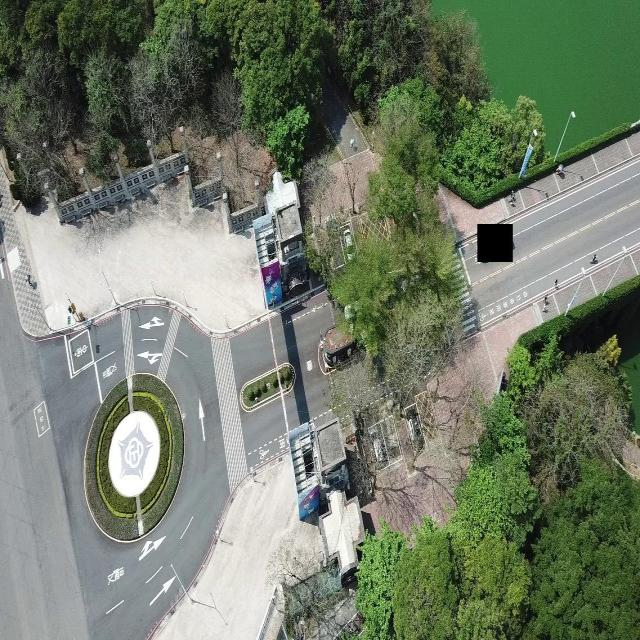car: (409, 403, 423, 458), (342, 222, 354, 266)
